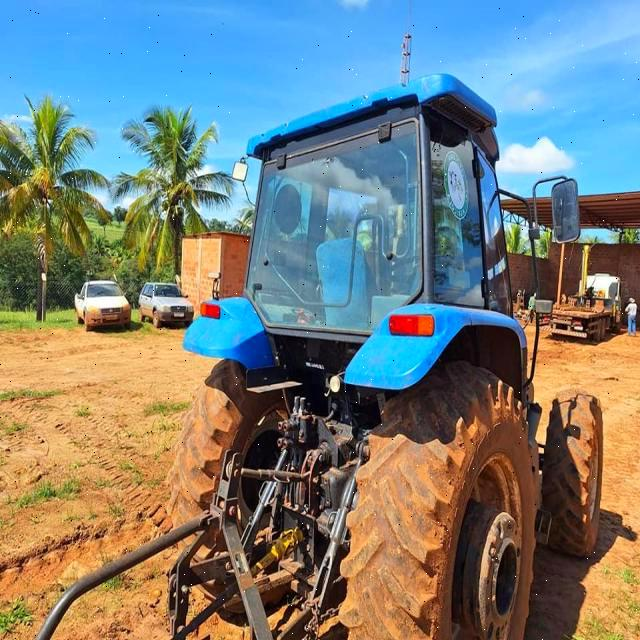Tratores - v5 YOLO V8L 2024-11-13: (162, 62, 604, 640)
